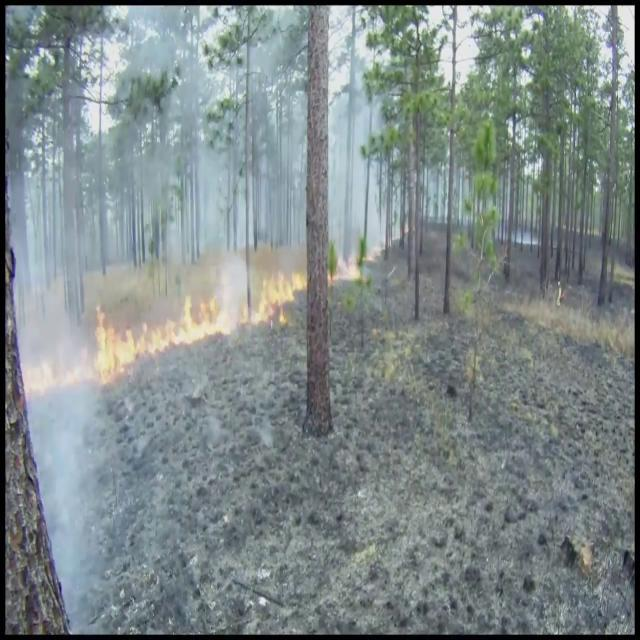Fire: (93, 272, 238, 381), (254, 261, 304, 331)
Smoke: (113, 18, 410, 288), (10, 174, 116, 596)
